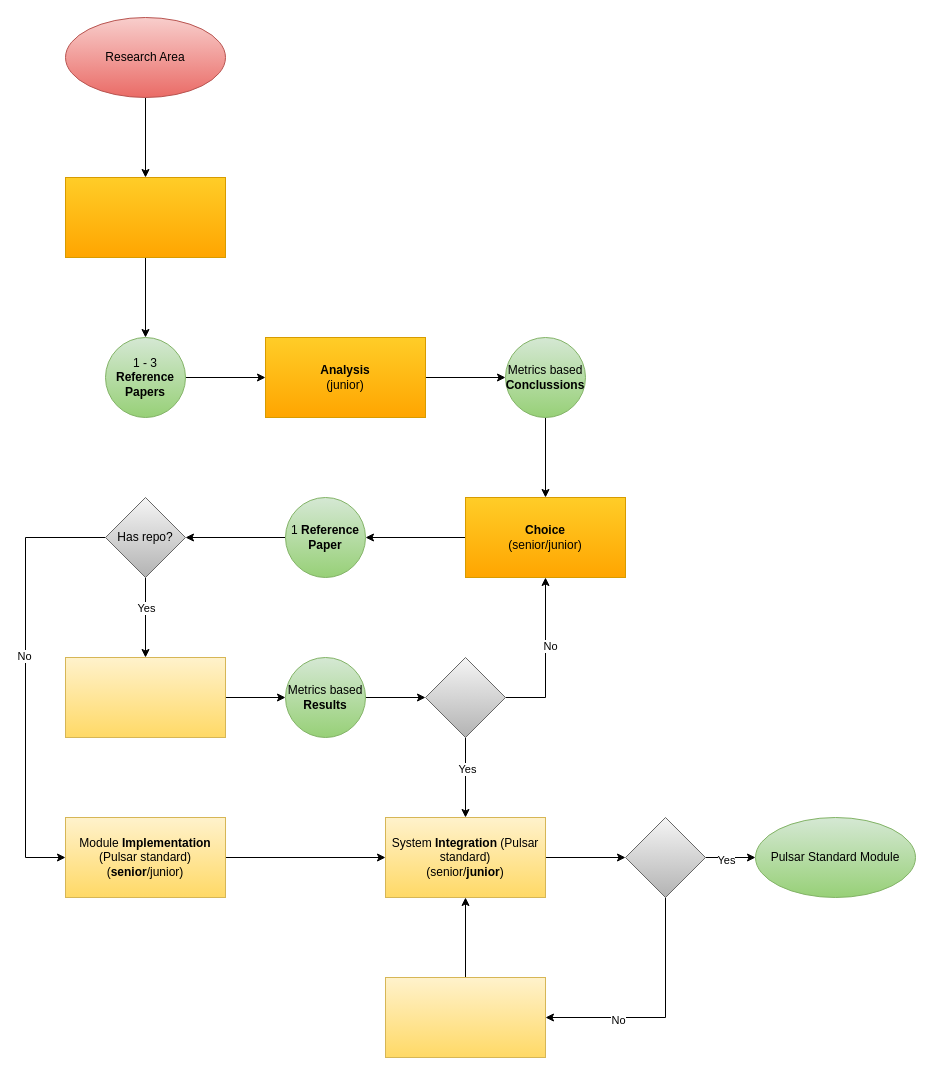
The diagram is 933 pixels wide and 1075 high, and some of its shapes have lost their labels. Each missing label, with the centre of its shape:
"Clone, V&V (junior)" goes at point (145, 697).
"Module Review (Pulsar standard) (senior/ junior )" goes at point (465, 1017).
"Pass all tests?" goes at point (665, 857).
"SOA (senior)" goes at point (145, 217).
"Valid?" goes at point (465, 697).
